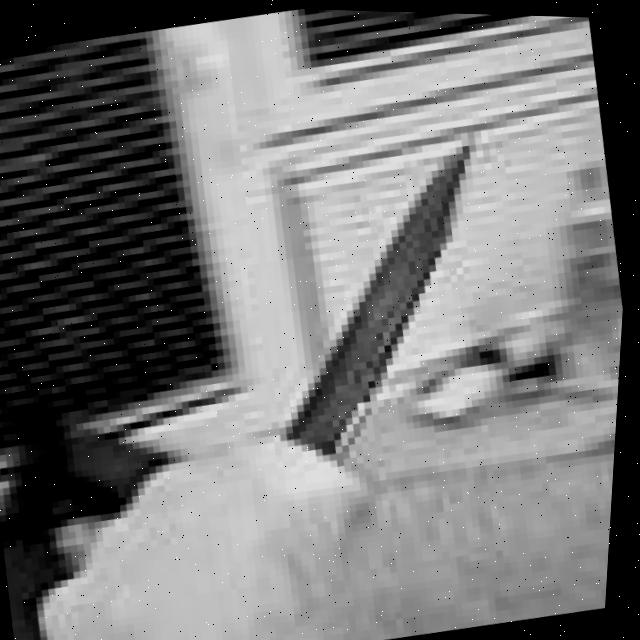knife: (236, 130, 528, 481)
